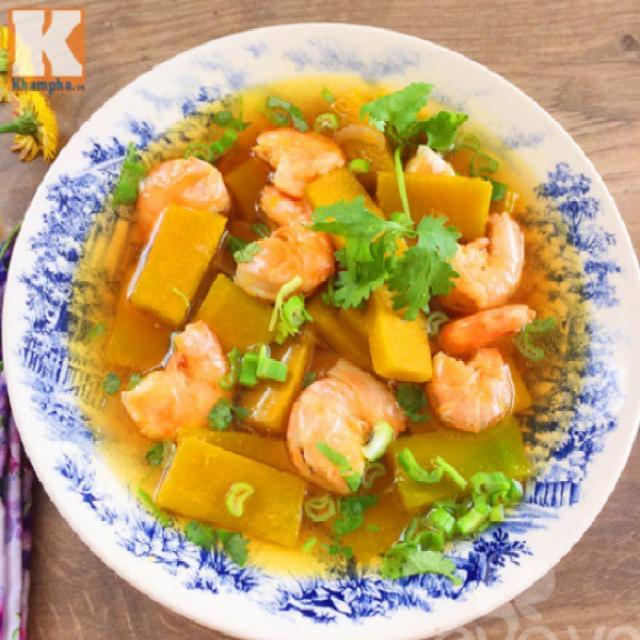canh bi do: (57, 73, 593, 580)
